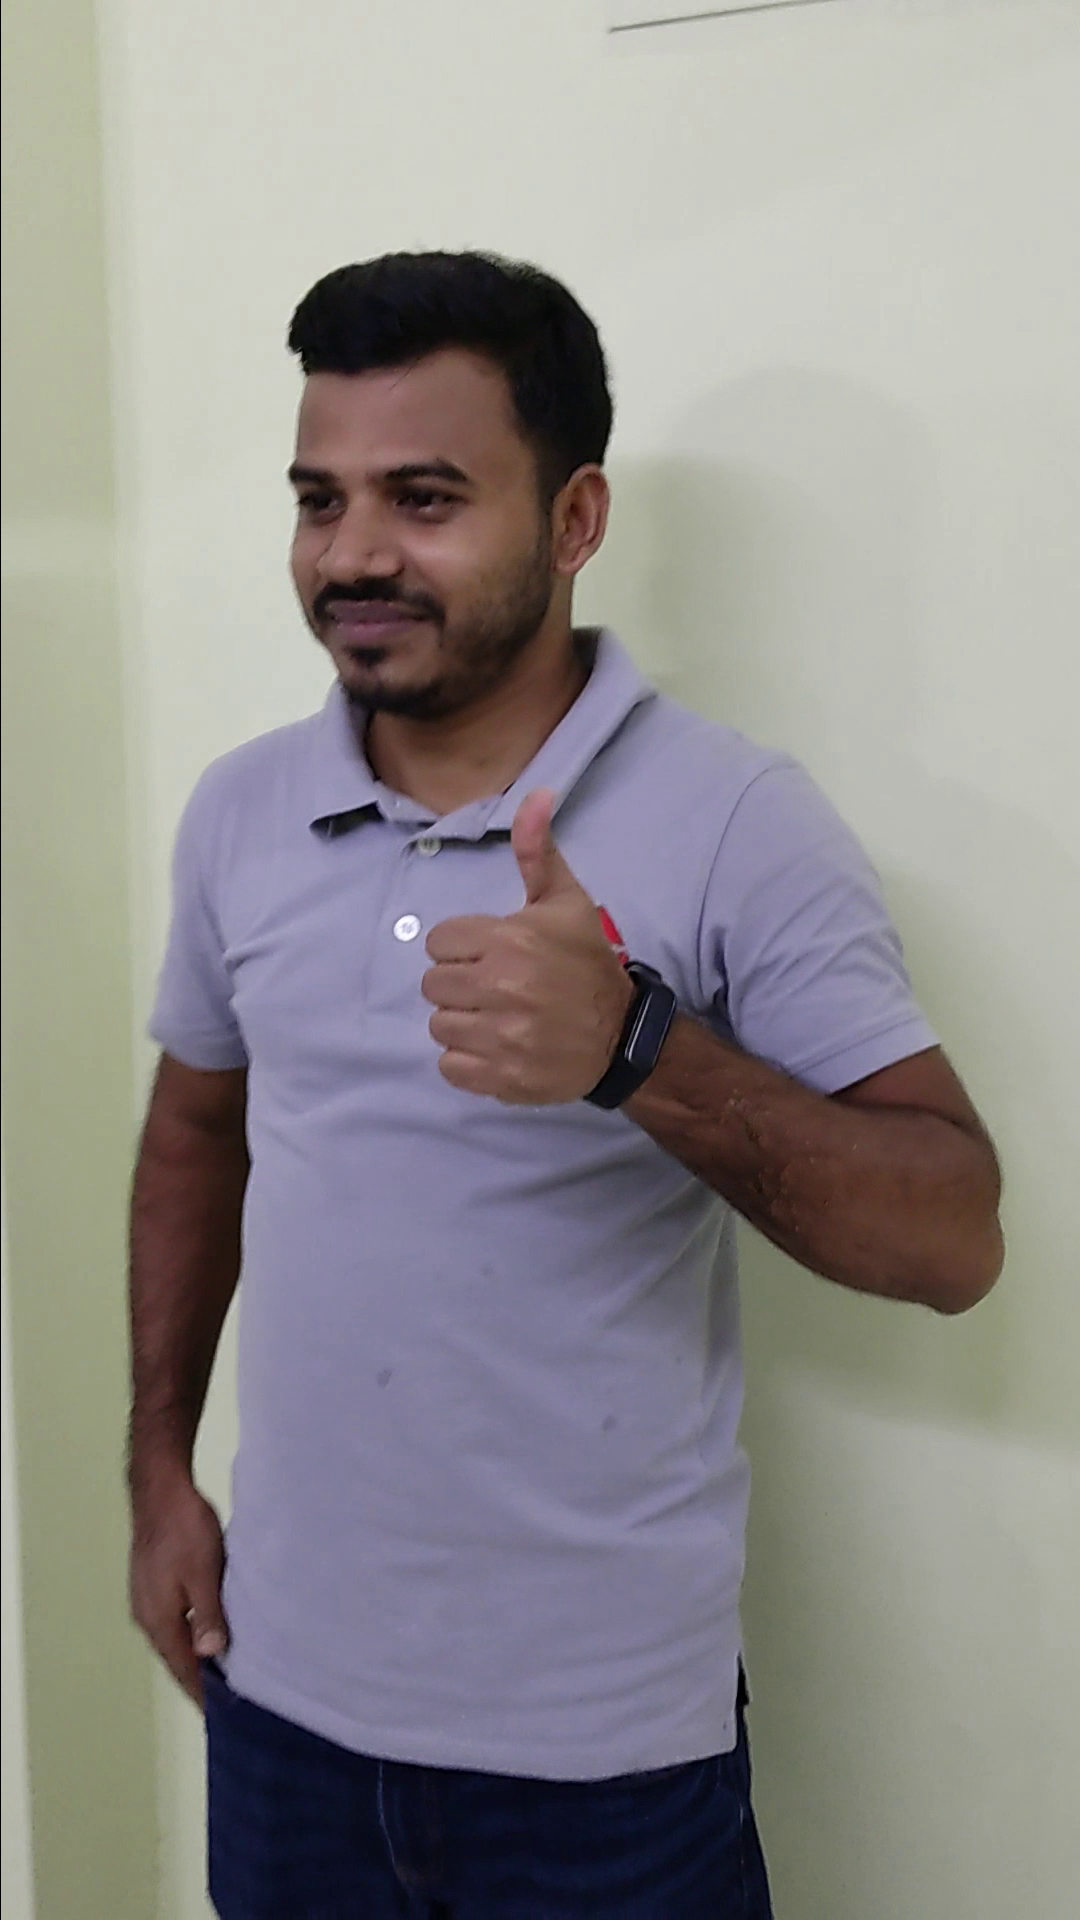Like: (413, 775, 651, 1112)
None: (100, 1436, 247, 1730)
